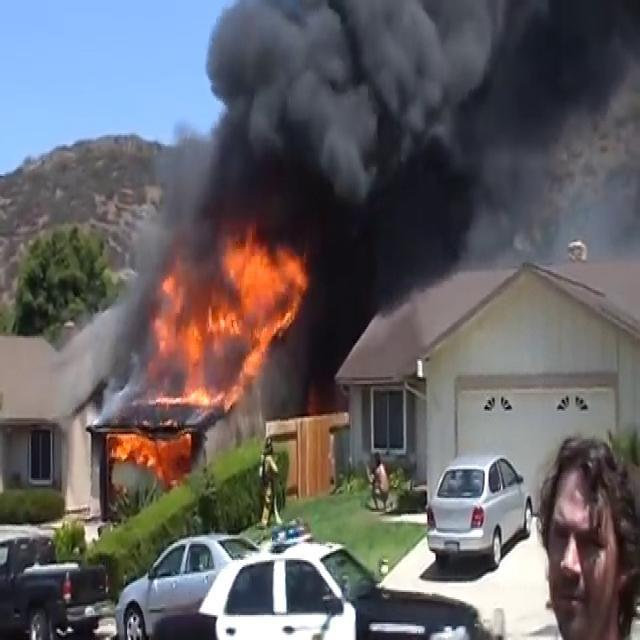Fire: (158, 226, 307, 410), (101, 424, 191, 481)
Smoke: (158, 0, 639, 347)
